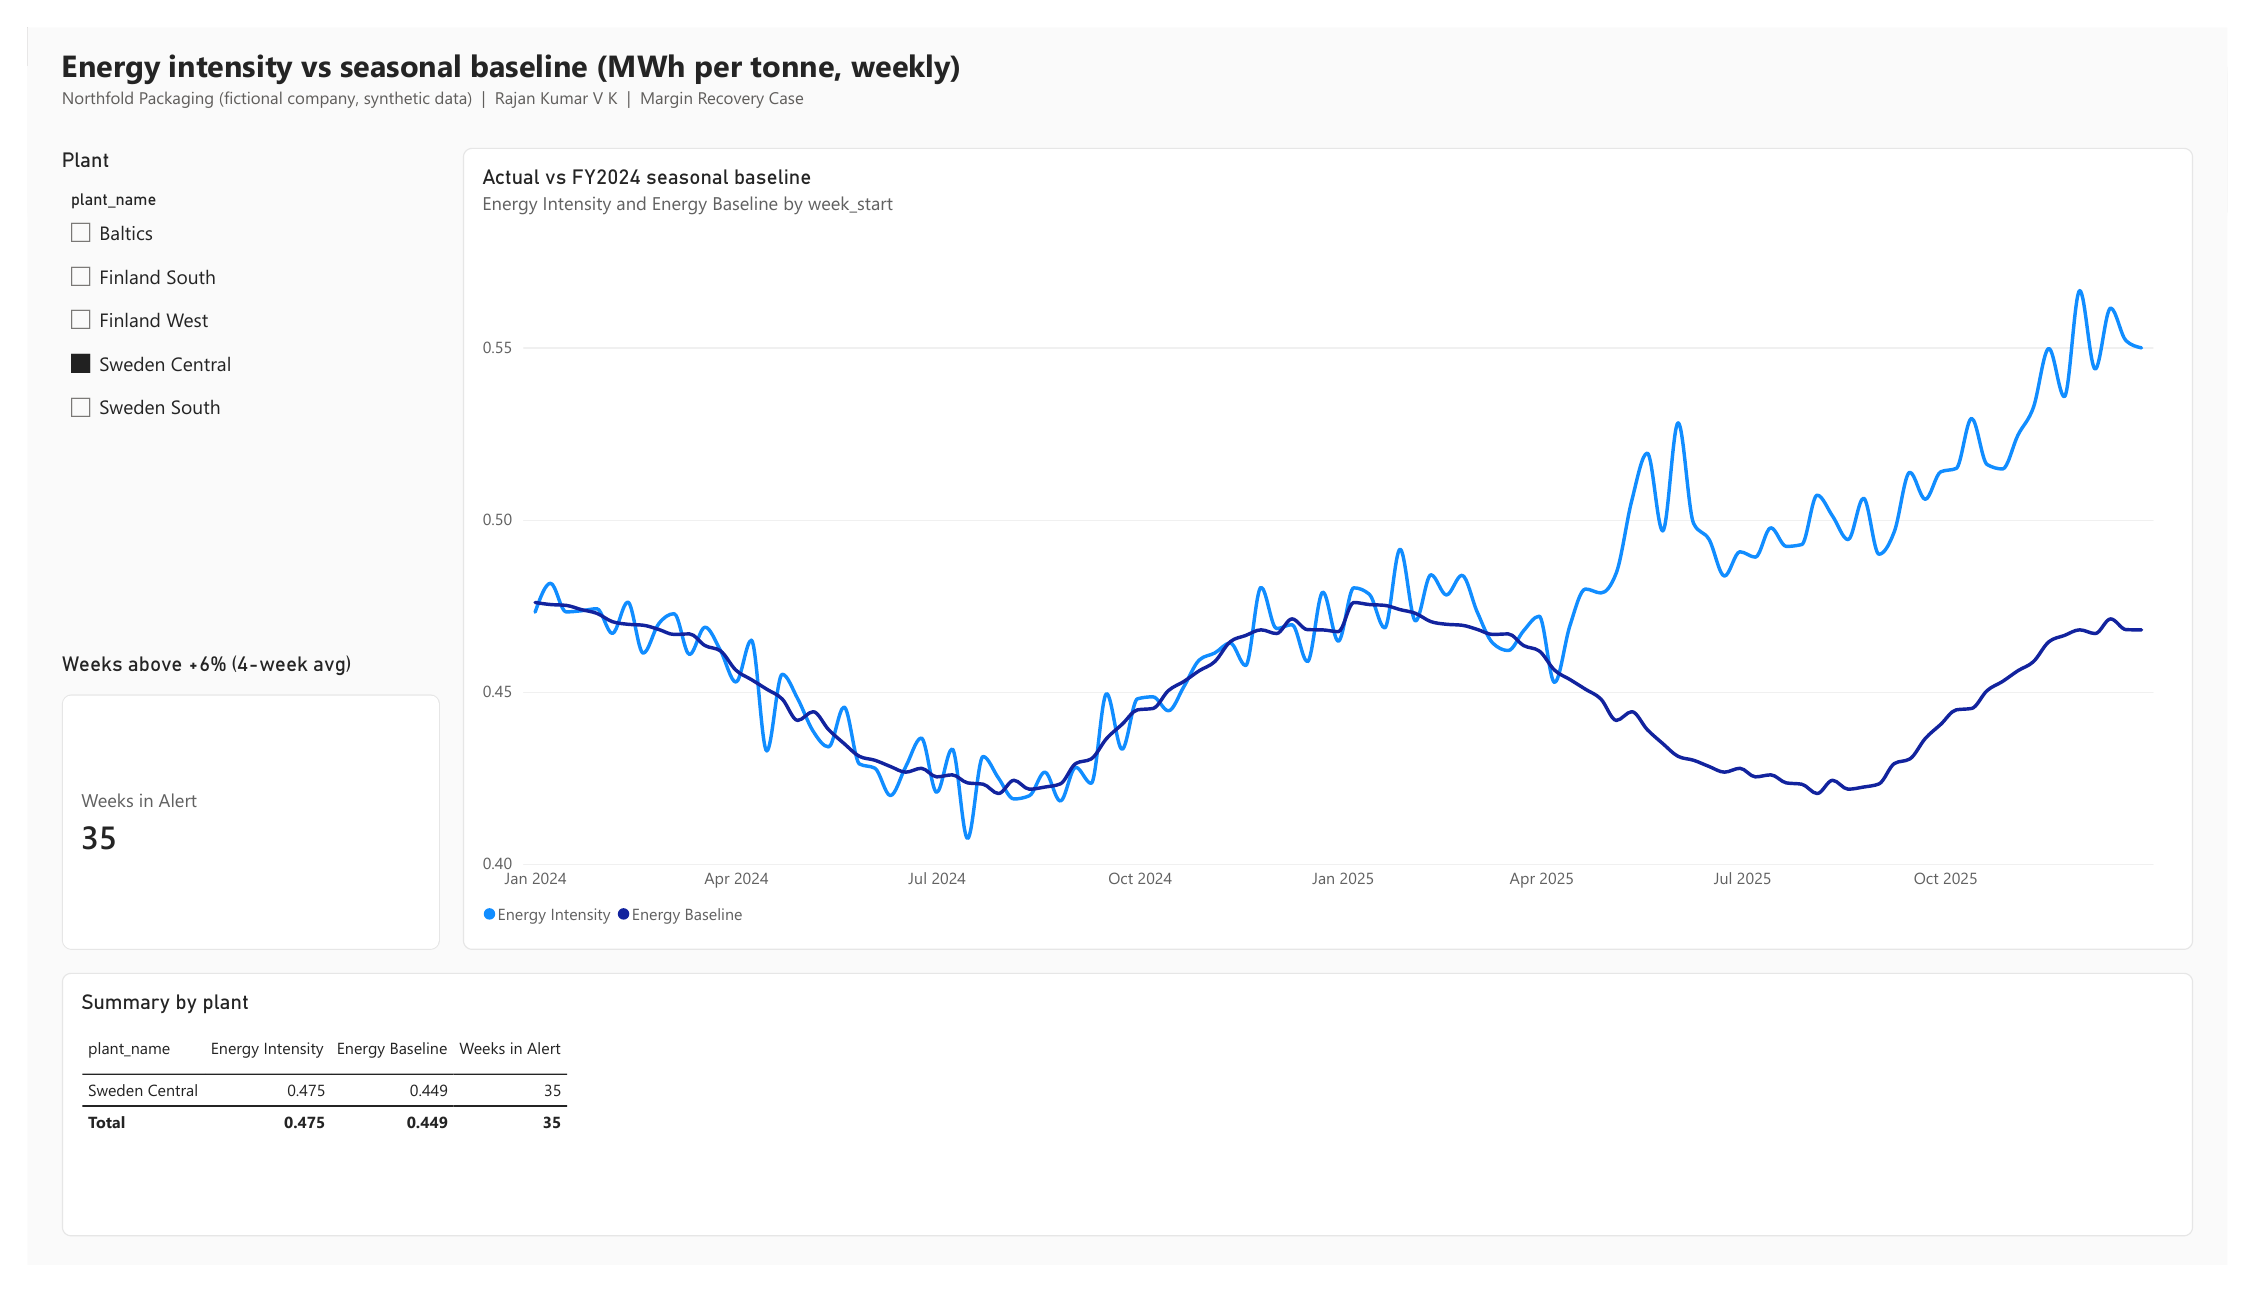

Layout of this report page (visuals, bound fields, positions):
{"tool":"powerbi","page":{"name":"4 Energy","canvas":[1920,1080],"ordinal":3},"visuals":[{"type":"textbox","box":[30,15,1860,80],"z":0},{"type":"slicer","title":"Plant","fields":{"Values":["dim_plant.plant_name"]},"box":[30,105,330,420],"z":1},{"type":"lineChart","title":"Actual vs FY2024 seasonal baseline","fields":{"Category":["energy_weekly.week_start"],"Y":["_Measures.Energy Intensity","_Measures.Energy Baseline"]},"box":[380,105,1510,700],"z":2},{"type":"cardVisual","title":"Weeks above +6% (4-week avg)","fields":{"Data":["_Measures.Weeks in Alert"]},"box":[30,545,330,260],"z":3},{"type":"tableEx","title":"Summary by plant","fields":{"Values":["dim_plant.plant_name","_Measures.Energy Intensity","_Measures.Energy Baseline","_Measures.Weeks in Alert"]},"box":[30,825,1860,230],"z":4}]}

Visuals, with their boxes in screenshot pixels (x1, y1, x2, y2), scaled from the page's 1920x1080 canvas onto the 2255x1293 screenshot:
textbox: [x1=35, y1=18, x2=2220, y2=114]
"Plant" slicer: [x1=35, y1=126, x2=423, y2=629]
"Actual vs FY2024 seasonal baseline" lineChart: [x1=446, y1=126, x2=2220, y2=964]
"Weeks above +6% (4-week avg)" cardVisual: [x1=35, y1=652, x2=423, y2=964]
"Summary by plant" tableEx: [x1=35, y1=988, x2=2220, y2=1263]
